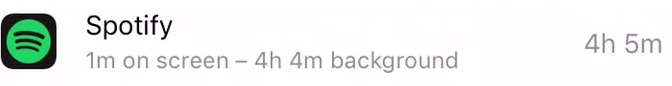name: (82, 10, 182, 44)
time: (251, 46, 329, 79), (84, 46, 121, 78)
